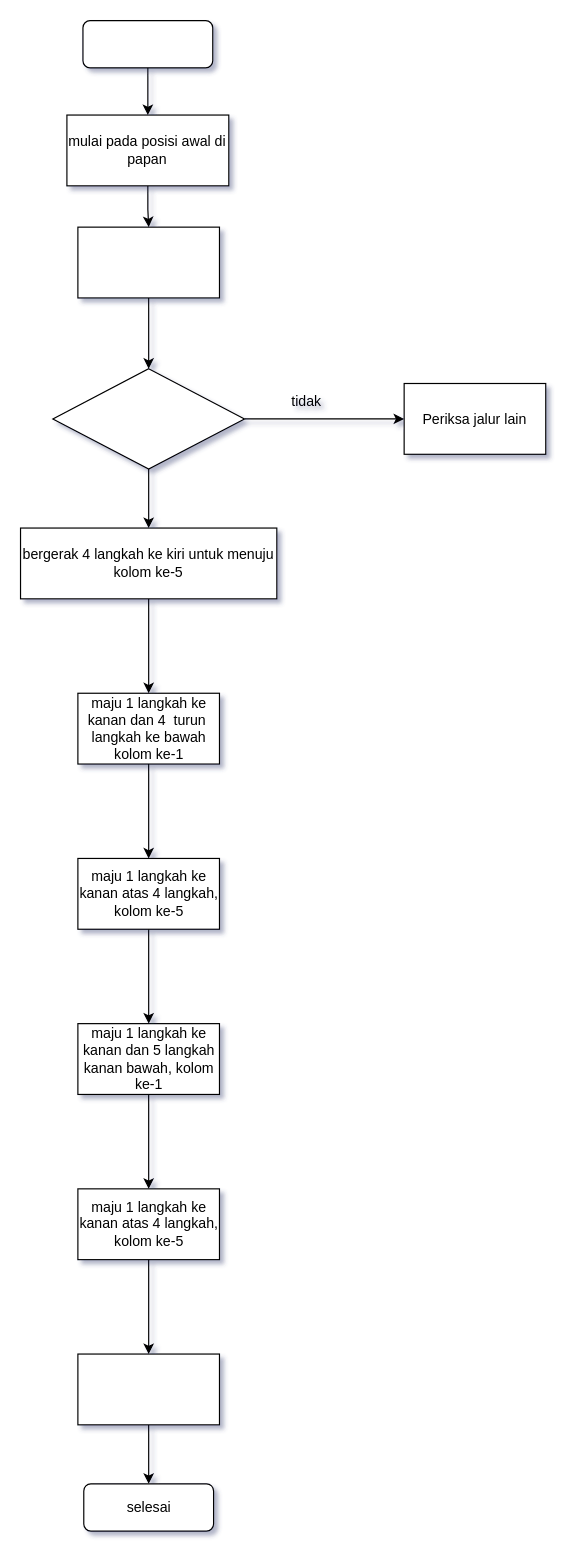
Image size: 575x1559. Some labels were removed from this diagram. The shapes that lost their labels are listed below. From the top down, each one's box as (x1, y1, x2, y2) in pixels, then its label:
(82, 19, 213, 68): mulai
(77, 226, 219, 298): robot mulai mencari permen
(52, 368, 244, 469): apakah ada permen di kiri?
(77, 1353, 219, 1425): finish
